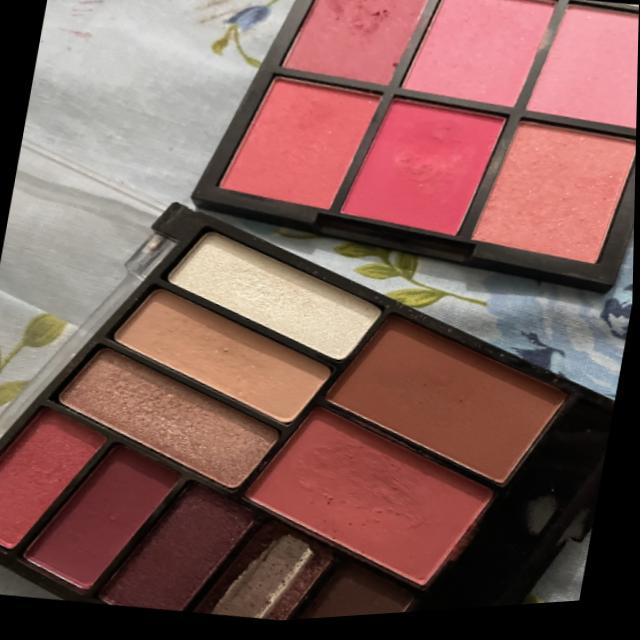blush: (326, 82, 529, 258), (212, 63, 404, 236), (462, 107, 638, 285), (386, 0, 571, 132), (512, 0, 639, 154), (266, 0, 446, 107)
eye shade: (223, 379, 506, 607), (306, 299, 579, 501), (25, 313, 301, 510), (91, 257, 340, 444), (153, 206, 398, 375), (16, 421, 200, 615), (84, 469, 286, 632), (0, 376, 134, 569), (266, 552, 429, 625)
